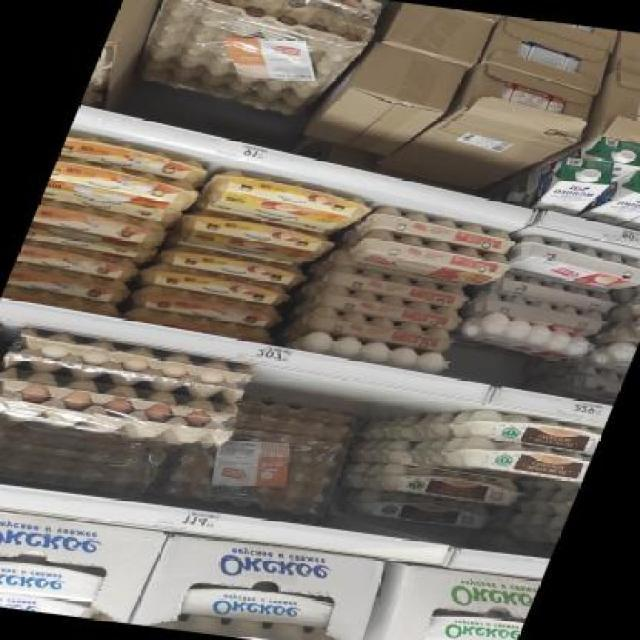egg: (199, 169, 378, 234), (341, 229, 514, 289), (42, 157, 204, 217), (169, 212, 339, 268), (431, 432, 594, 486), (357, 203, 526, 254), (56, 129, 215, 183), (176, 578, 339, 630), (497, 237, 640, 296), (25, 200, 173, 256), (362, 462, 532, 509), (130, 606, 358, 640), (444, 406, 605, 454), (334, 488, 501, 534), (298, 306, 460, 352), (317, 264, 478, 310), (516, 152, 620, 222), (130, 283, 286, 328), (150, 246, 310, 288), (138, 263, 292, 305), (308, 286, 467, 326), (0, 550, 103, 606), (14, 240, 144, 282), (6, 264, 139, 302), (578, 164, 640, 233), (0, 578, 100, 618), (416, 606, 526, 640)
